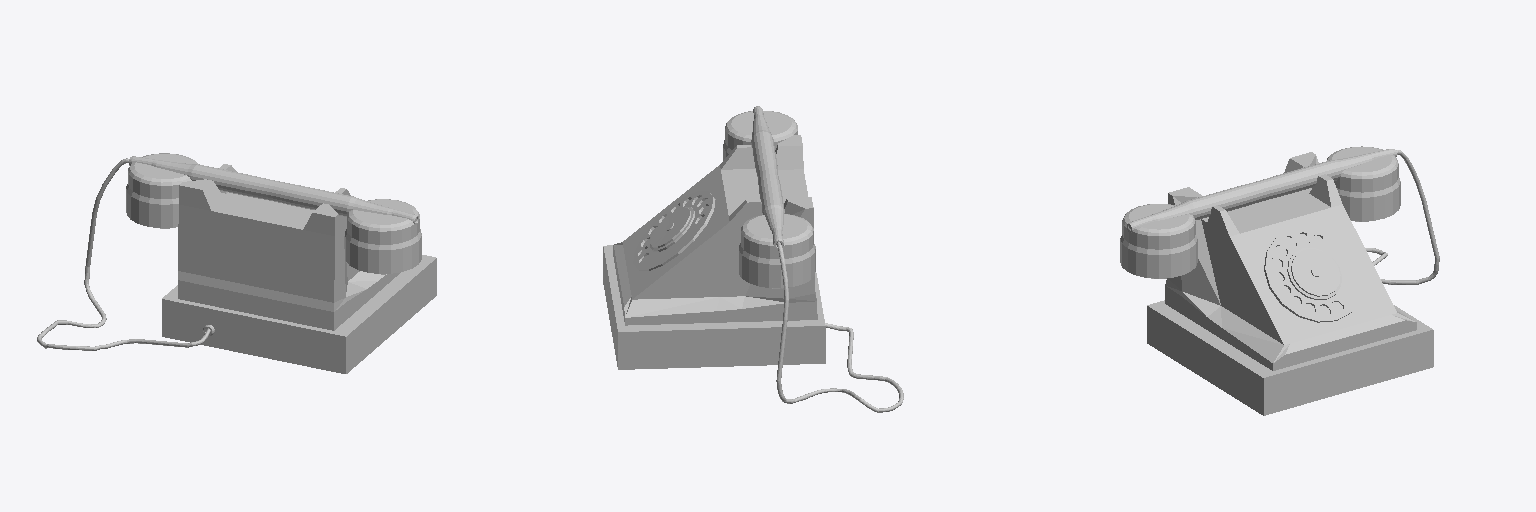
The model's file is Telefone.obj.
The picture shows the model from 3 angles: view 1: azimuth 30°, elevation 25°; view 2: azimuth 150°, elevation 25°; view 3: azimuth 270°, elevation 25°; orthographic projection.
Parts seen in each view (by area): view 1: Telefone1; view 2: Telefone1; view 3: Telefone1.
Part boxes in pixels (left/top/right/bottom): Telefone1: left=37, top=153, right=436, bottom=373; Telefone1: left=603, top=106, right=903, bottom=412; Telefone1: left=1120, top=146, right=1439, bottom=415.
Size of the model in its own units: 0.8324 by 0.3645 by 0.6658.